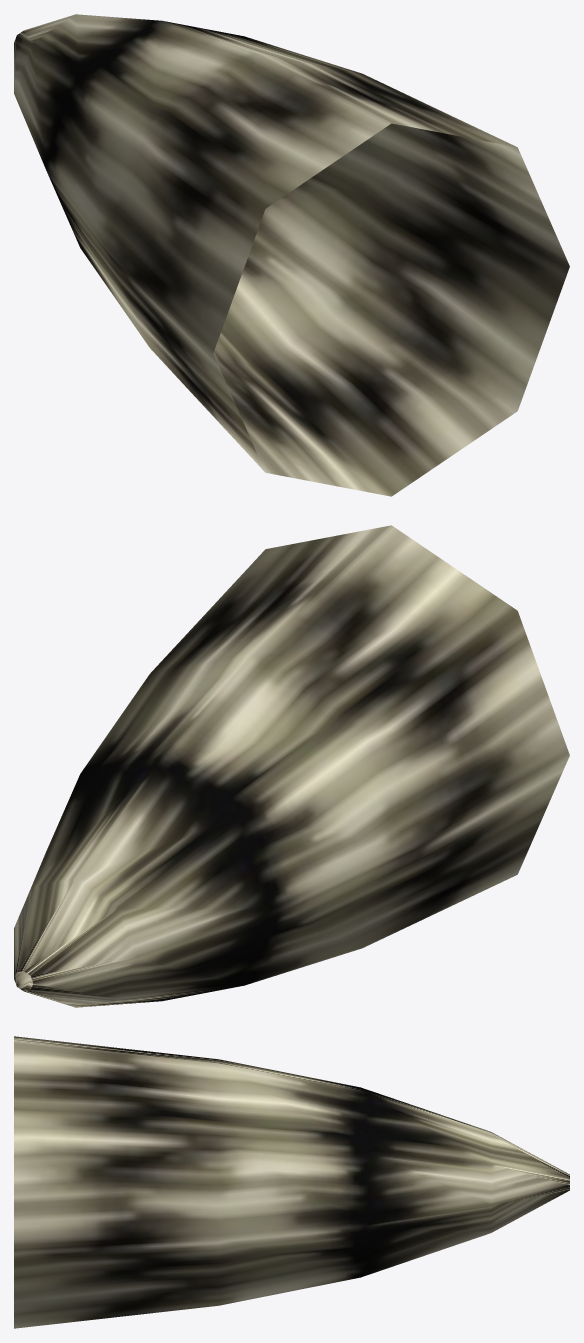
The model's file is cutlass_blur.fbx.
3 views of the same model, one above another, from view 1: azimuth 30°, elevation 25°; view 2: azimuth 150°, elevation 25°; view 3: azimuth 270°, elevation 25° (orthographic). The views are drawn at different scales.
Parts seen in each view (by area): view 1: cutlass_blur; view 2: cutlass_blur; view 3: cutlass_blur.
Part boxes in pixels (x1,y1,x2,y2): cutlass_blur: [14, 14, 569, 496]; cutlass_blur: [14, 525, 569, 1007]; cutlass_blur: [14, 1036, 569, 1328].
Bounding box in the file's own units: 268 × 268 × 479.
1 material, 1 textured.
